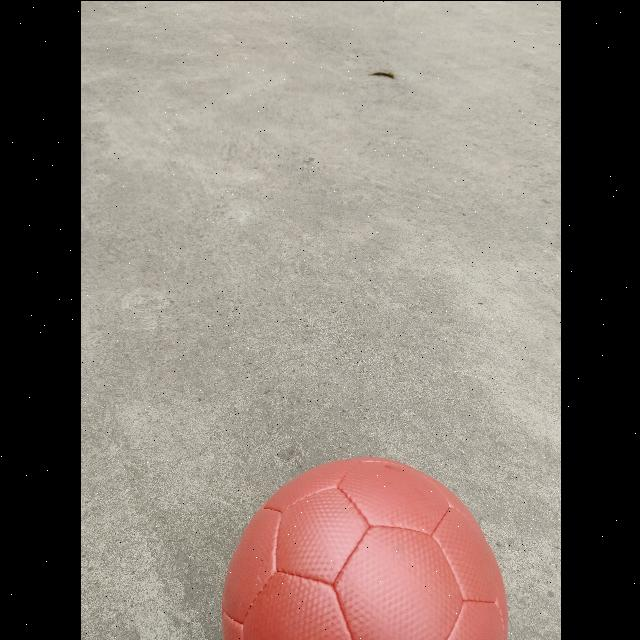R: (221, 456, 507, 640)
